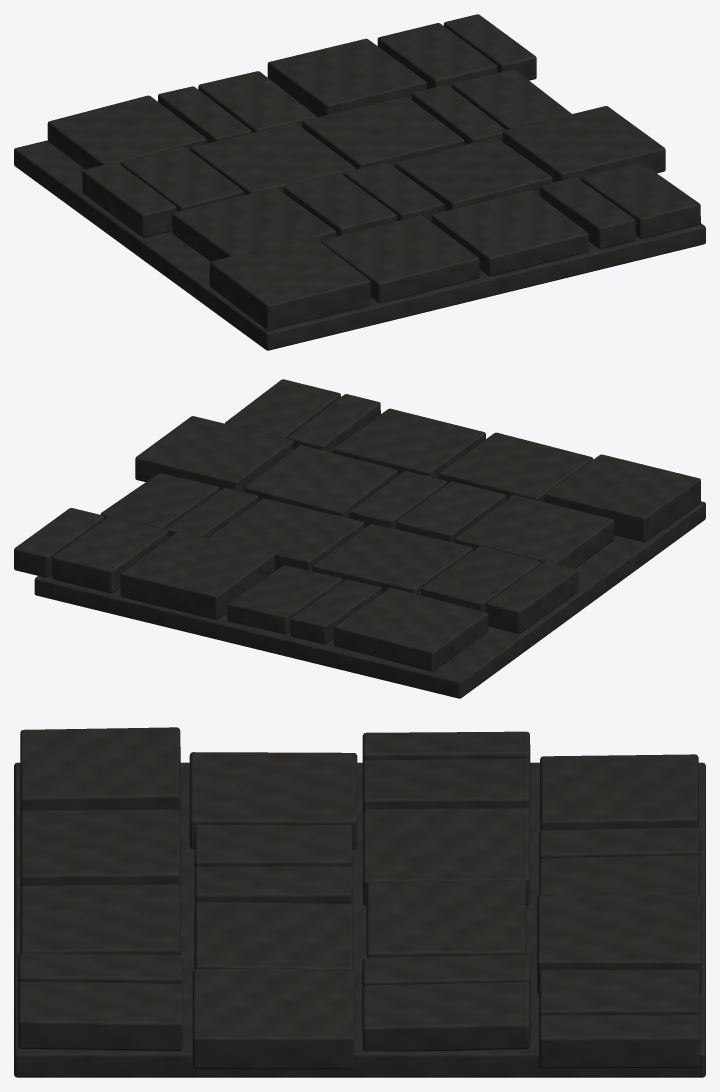
Rendered from Flagstones_CrackedTile_LOD0.glb.
3 views of the same model, one above another, from view 1: azimuth 30°, elevation 25°; view 2: azimuth 150°, elevation 25°; view 3: azimuth 270°, elevation 25° (orthographic). The views are drawn at different scales.
Visible parts, largest first — view 1: Flagstones_CrackedTile_LOD0; view 2: Flagstones_CrackedTile_LOD0; view 3: Flagstones_CrackedTile_LOD0.
Part boxes in pixels (left/top/right/bottom): Flagstones_CrackedTile_LOD0: left=14, top=14, right=705, bottom=350; Flagstones_CrackedTile_LOD0: left=14, top=379, right=705, bottom=698; Flagstones_CrackedTile_LOD0: left=14, top=727, right=705, bottom=1077.
Bounding box in the file's own units: 2.64 × 0.249 × 2.5.
1 material, 1 textured.
